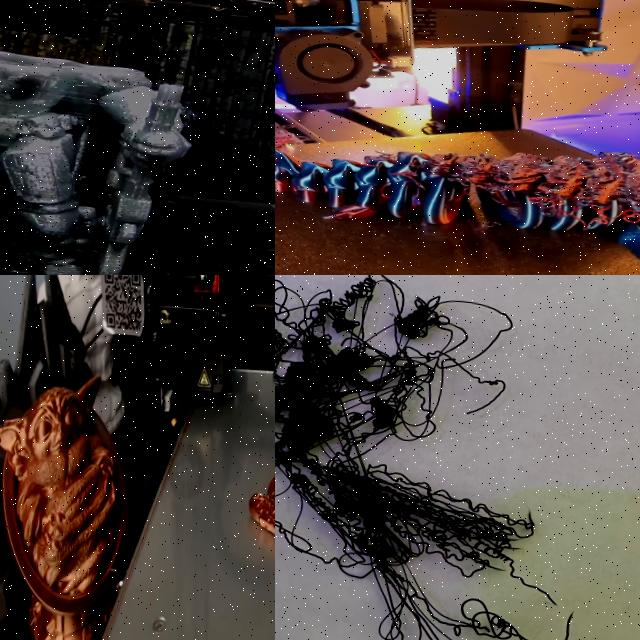spaghetti: (275, 275, 617, 640), (430, 145, 640, 247)
